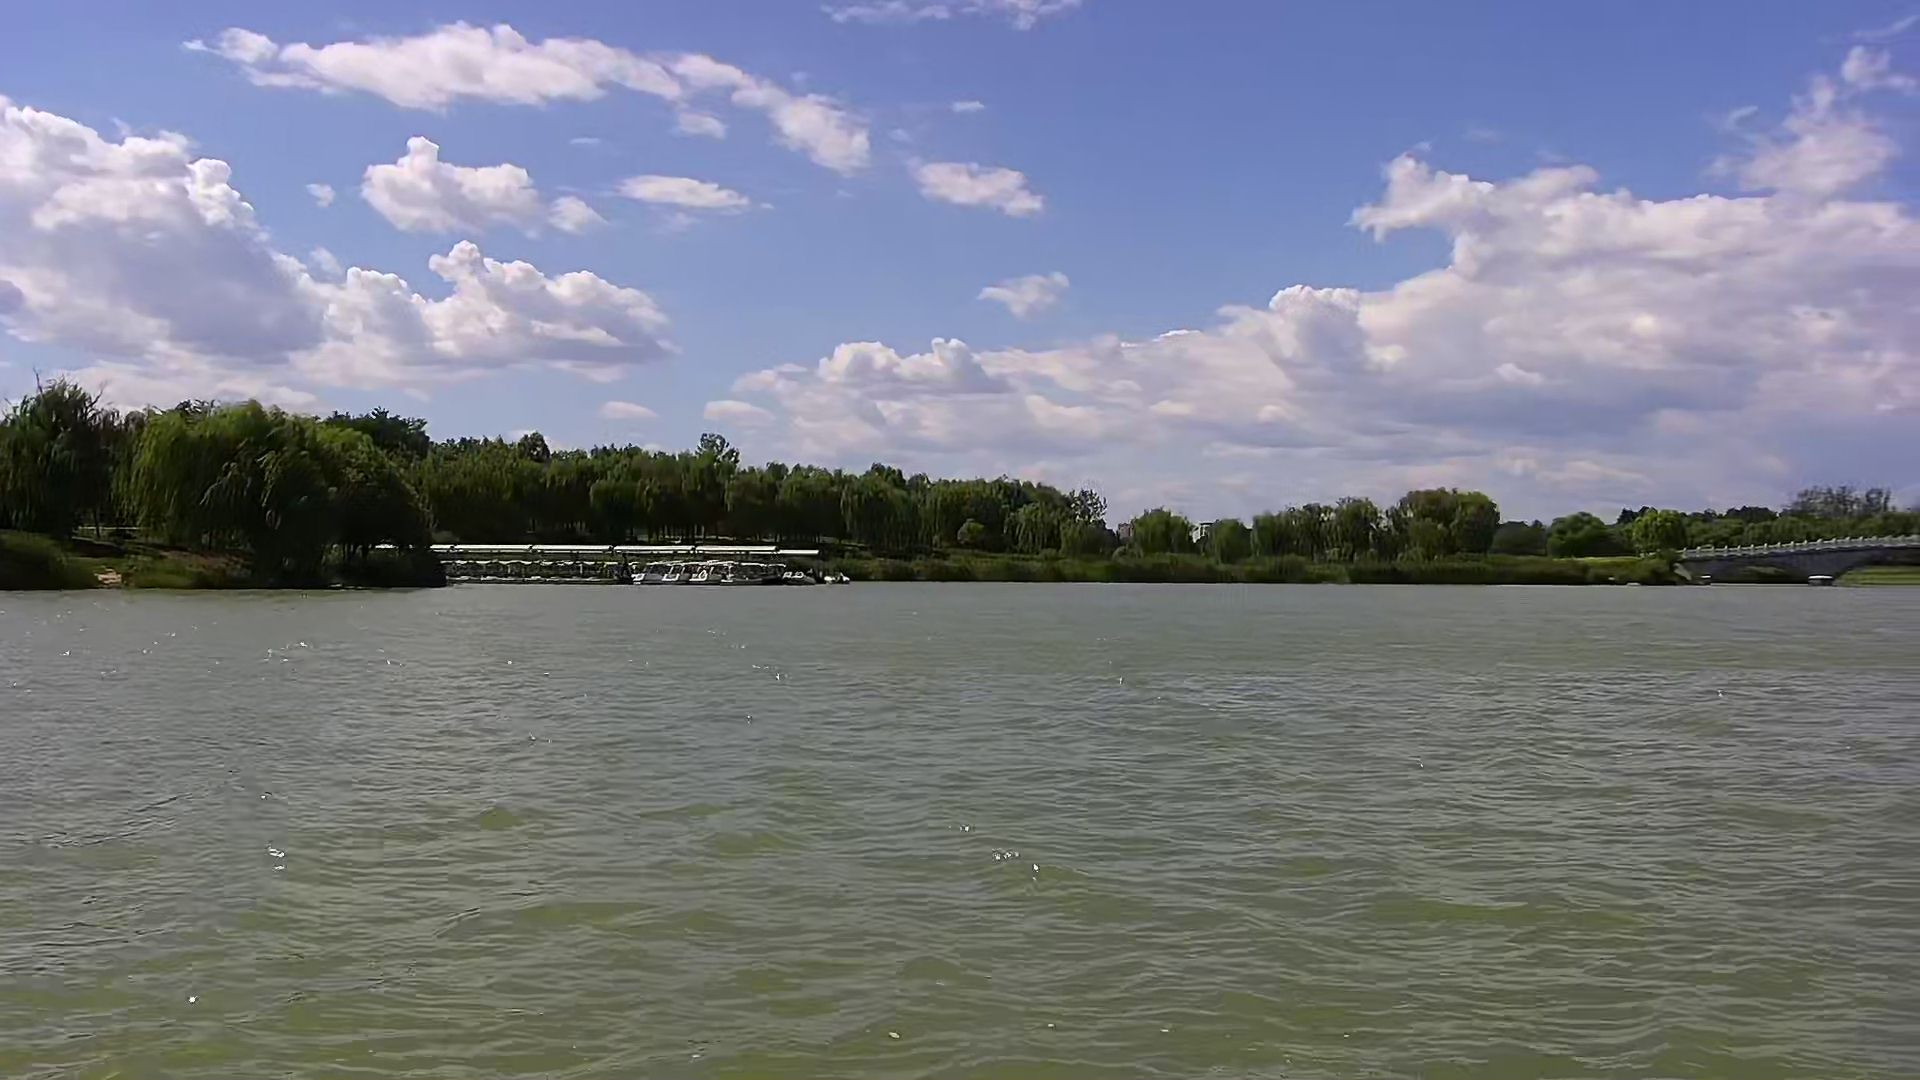bridge: (1663, 530, 1920, 593)
harbor: (430, 541, 852, 589)
